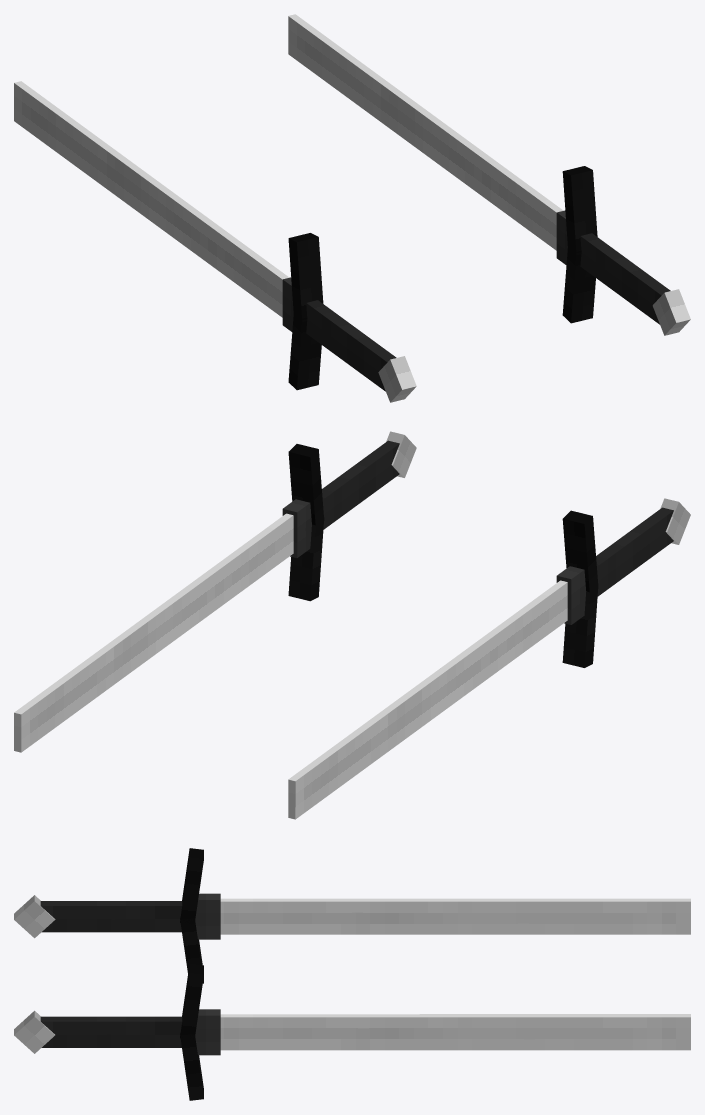
The model's file is hollow_longsword.glb.
3 renders of one model, top to bottom at view 1: azimuth 30°, elevation 25°; view 2: azimuth 150°, elevation 25°; view 3: azimuth 270°, elevation 25°, orthographic. The views are drawn at different scales.
Parts seen in each view (by area): view 1: main__Tool_R, off__Tool_L; view 2: off__Tool_L, main__Tool_R; view 3: main__Tool_R, off__Tool_L.
Part boxes in pixels (left/top/right/bottom): main__Tool_R: left=288, top=14, right=690, bottom=335; off__Tool_L: left=14, top=81, right=416, bottom=402; off__Tool_L: left=288, top=498, right=690, bottom=819; main__Tool_R: left=14, top=431, right=416, bottom=752; main__Tool_R: left=14, top=963, right=690, bottom=1100; off__Tool_L: left=14, top=848, right=690, bottom=983.
Bounding box in the file's own units: 1.01 × 0.484 × 2.32.
1 material, 1 textured.
